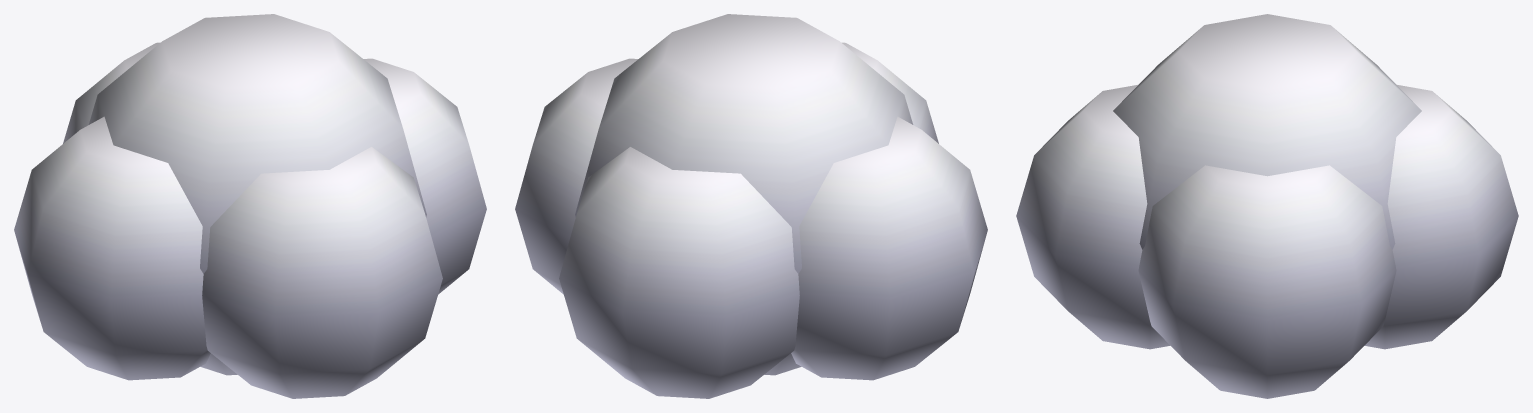
The model's file is kenney-blaster-smoke.glb.
3 renders of one model, left to right at view 1: azimuth 30°, elevation 25°; view 2: azimuth 150°, elevation 25°; view 3: azimuth 270°, elevation 25°, orthographic. The views are drawn at different scales.
Parts seen in each view (by area): view 1: smoke; view 2: smoke; view 3: smoke.
Boxes of the visible parts, box(x1,y1,x2,y2) form: smoke: box(14, 14, 486, 398); smoke: box(515, 14, 987, 398); smoke: box(1016, 14, 1518, 398).
Size of the model in its own units: 0.277 by 0.1704 by 0.277.
Materials: 1 (1 with a texture image).
